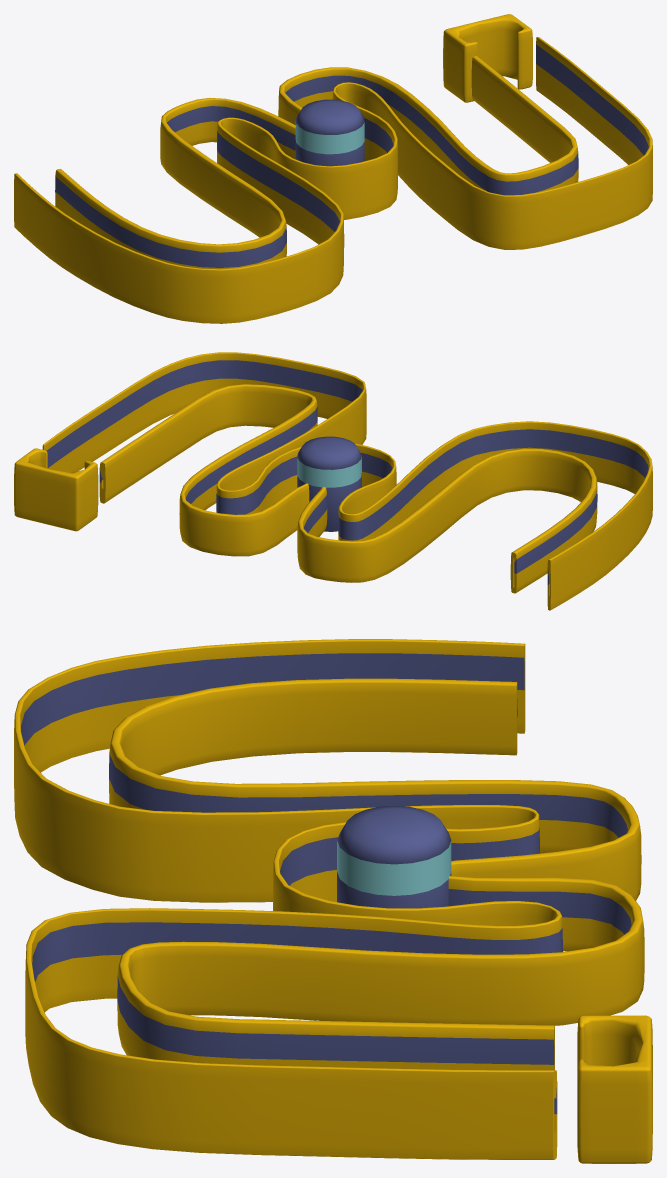
Rendered from contornomap1.fbx.
3 views of the same model, one above another, from view 1: azimuth 30°, elevation 25°; view 2: azimuth 150°, elevation 25°; view 3: azimuth 270°, elevation 25° (orthographic). The views are drawn at different scales.
Visible parts, largest first — view 1: pCube2, pCube1, pCube3, polySurface2, polySurface1; view 2: pCube2, pCube1, pCube3, polySurface2, polySurface1; view 3: pCube2, pCube1, pCube3, polySurface2, polySurface1.
Part boxes in pixels (x1,y1,x2,y2): pCube2: [14, 37, 652, 323]; pCube1: [55, 56, 578, 269]; pCube3: [443, 14, 532, 102]; polySurface2: [295, 99, 364, 166]; polySurface1: [295, 121, 364, 154]; pCube2: [42, 352, 652, 610]; pCube1: [99, 384, 597, 593]; pCube3: [14, 448, 98, 531]; polySurface2: [297, 436, 361, 531]; polySurface1: [297, 455, 361, 487]; pCube2: [14, 639, 562, 1159]; pCube1: [109, 678, 644, 1070]; pCube3: [577, 1015, 652, 1163]; polySurface2: [337, 805, 451, 908]; polySurface1: [337, 840, 451, 895].
Bounding box in the file's own units: 4703 × 690 × 2921.
